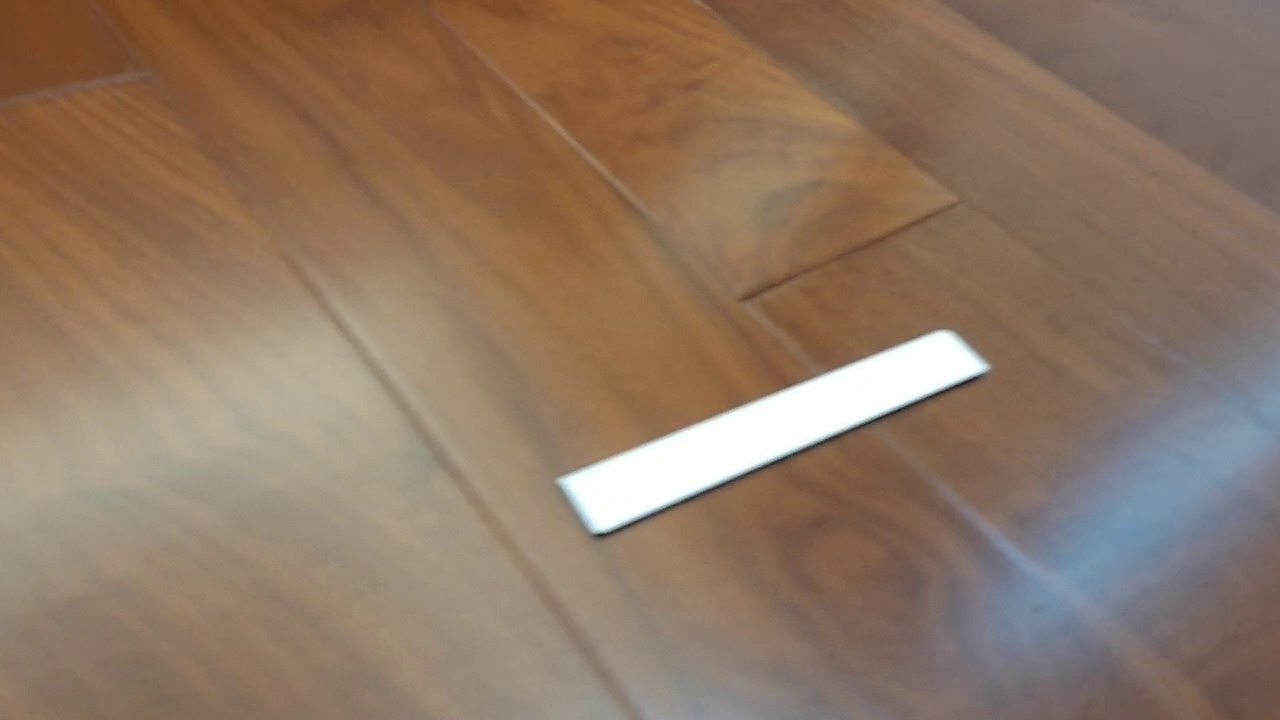ruler: (553, 327, 993, 540)
